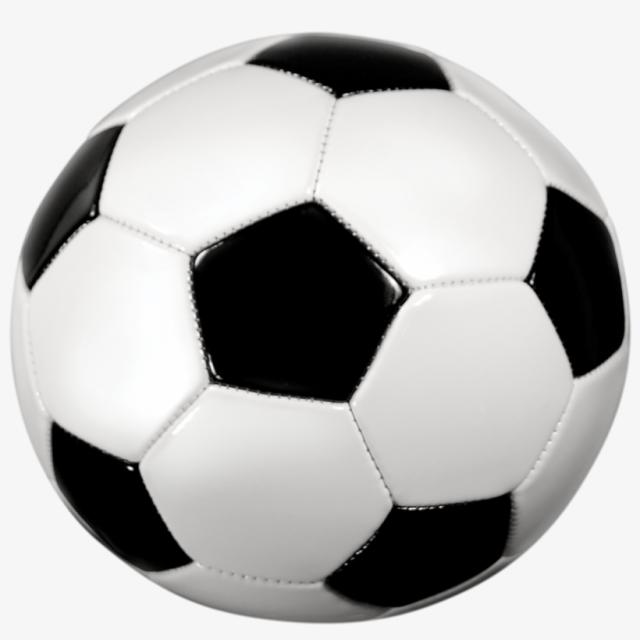soccer ball: (10, 33, 630, 622)
